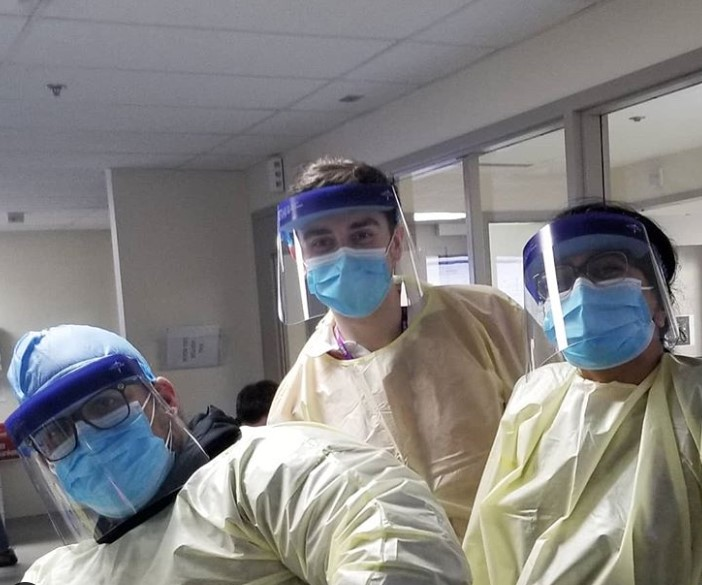face_with_mask: (6, 326, 179, 524), (523, 205, 667, 374), (277, 159, 401, 317)
